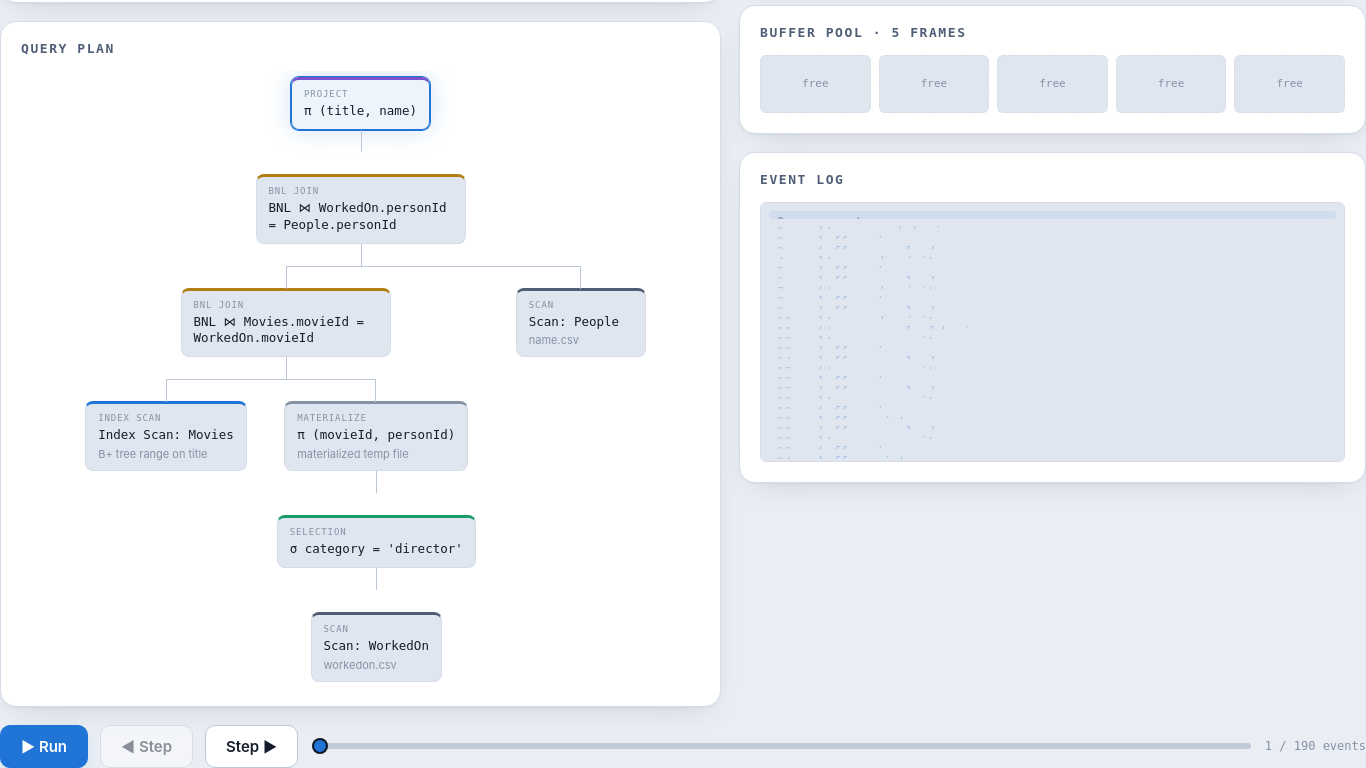
DemoPlayer › rebuilds the run when the access method changes
This screenshot has width=1366, height=768.
(page scrolled)
Click the button "Step ▶" at (252, 746), box [205,725,298,767]
(page scrolled)
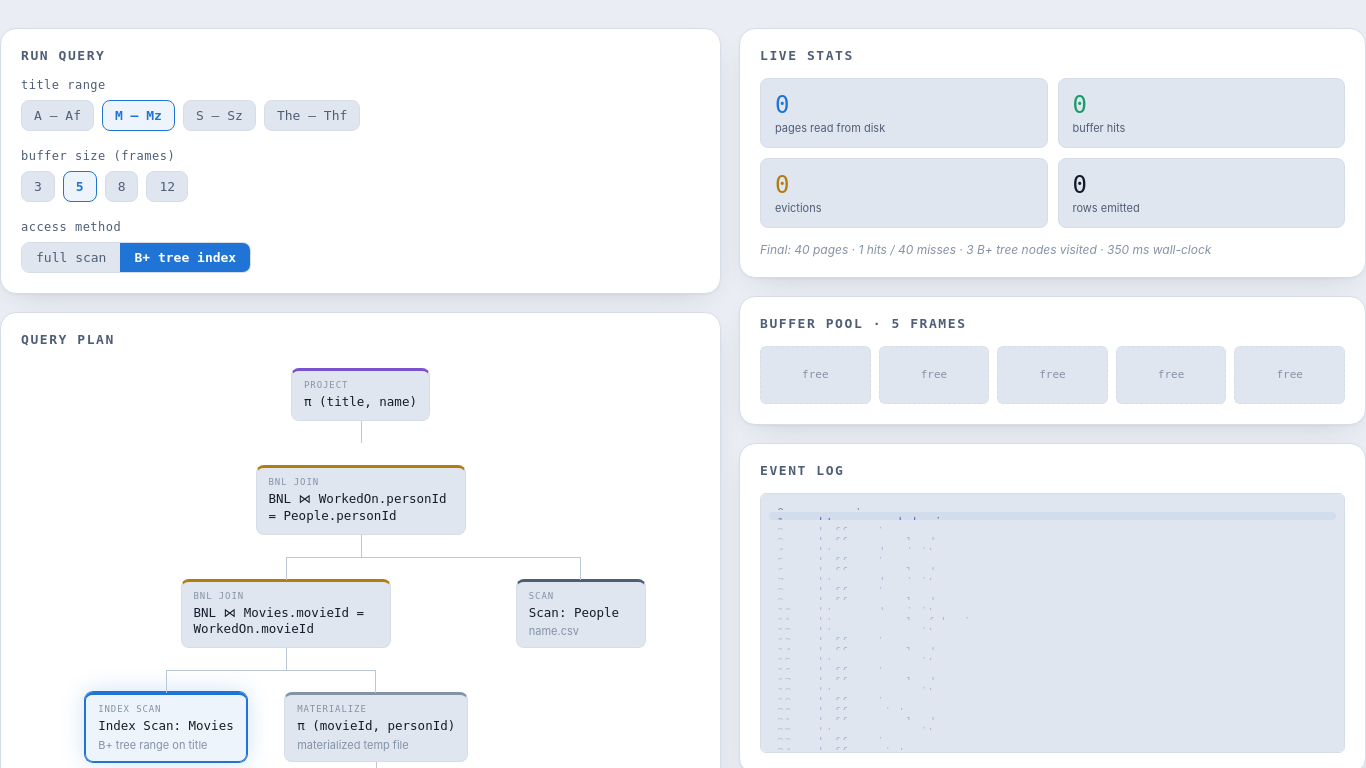
Note: Switching to full scan regenerates the trace and resets playback to event 1.
Click the button "full scan" at (71, 257), box [22,243,120,272]
(page scrolled)
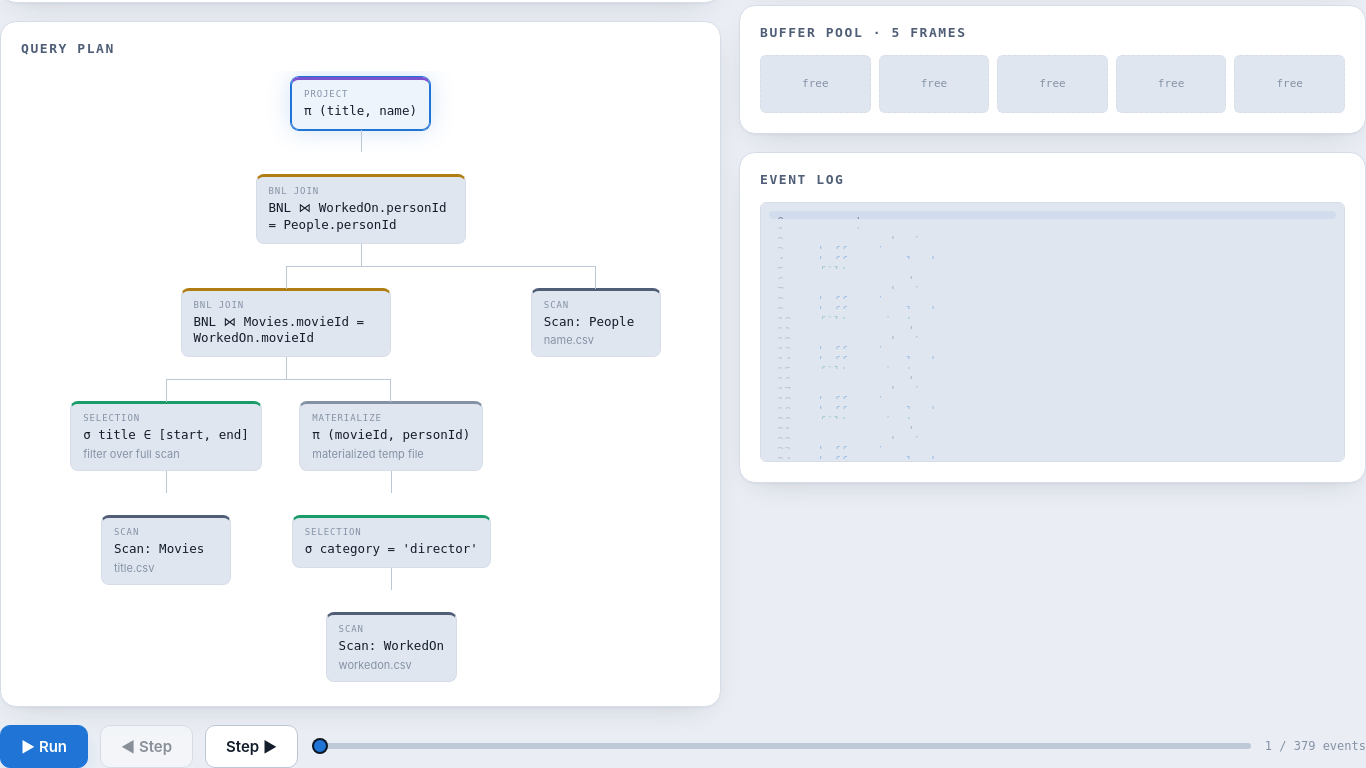
Expected: the text "1 / 379 events" is shown, [1265,739,1365,753]
